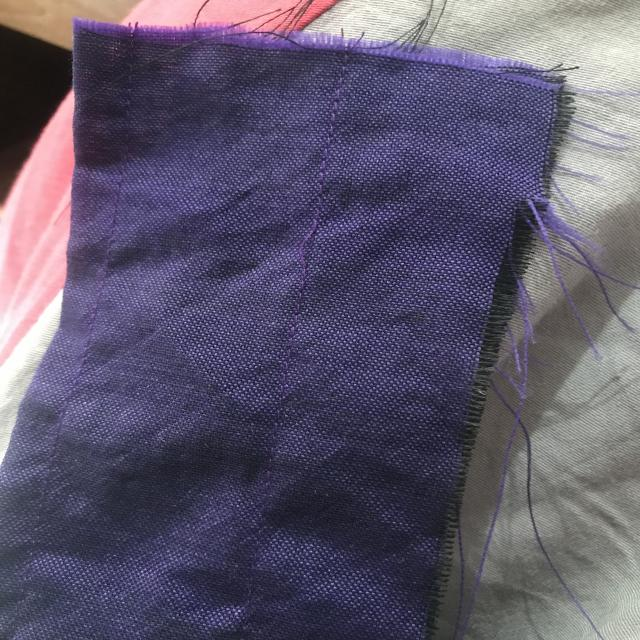skip: (282, 206, 333, 274)
